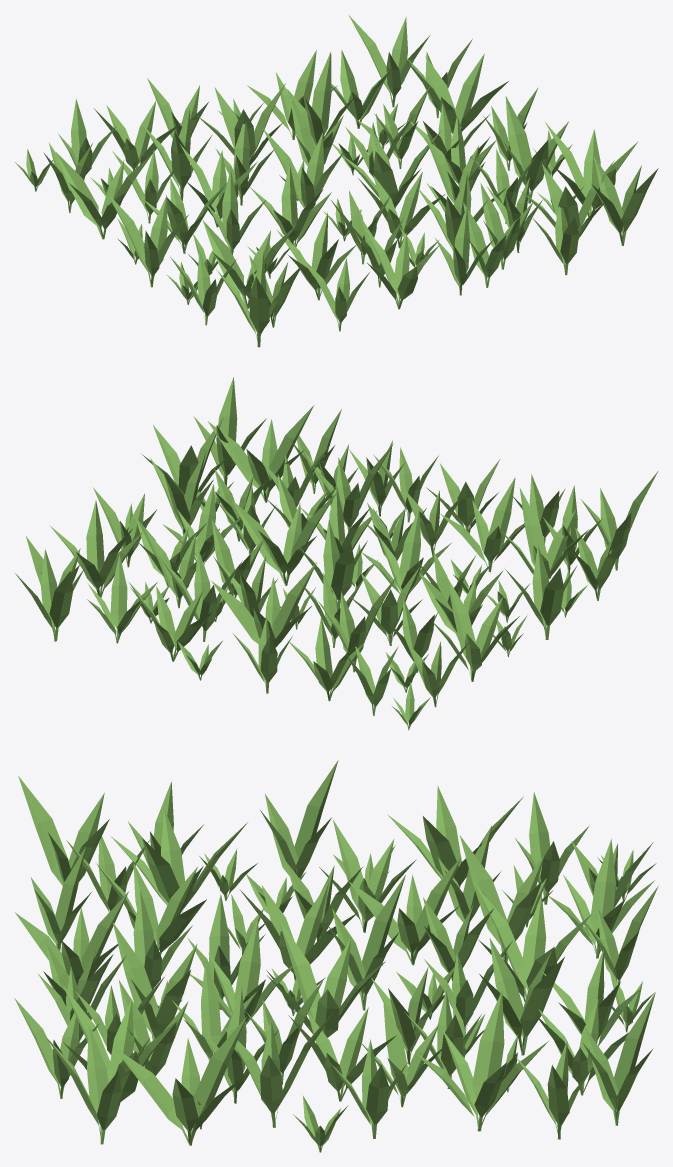
Rendered from Grass.fbx.
3 views of the same model, one above another, from view 1: azimuth 30°, elevation 25°; view 2: azimuth 150°, elevation 25°; view 3: azimuth 270°, elevation 25° (orthographic). The views are drawn at different scales.
Visible parts, largest first — view 1: Circle.008; view 2: Circle.008; view 3: Circle.008.
Part boxes in pixels (<box>): Circle.008: <box>15,15,658,347</box>; Circle.008: <box>15,377,658,730</box>; Circle.008: <box>14,760,658,1152</box>.
Size of the model in its own units: 115 by 21.38 by 106.
